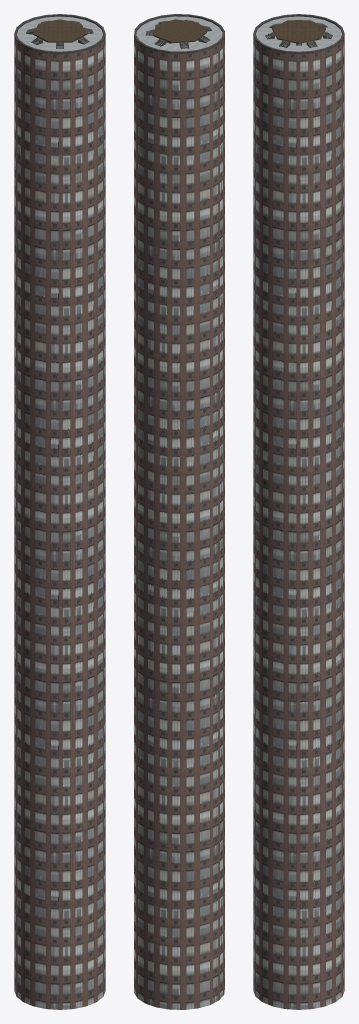
File: Building 3.fbx
3 renders of one model, left to right at view 1: azimuth 90°, elevation 25°; view 2: azimuth 150°, elevation 25°; view 3: azimuth 270°, elevation 25°, orthographic.
Parts seen in each view (by area): view 1: Building_3; view 2: Building_3; view 3: Building_3.
Part boxes in pixels (left/top/right/bottom): Building_3: left=14, top=14, right=105, bottom=1009; Building_3: left=134, top=14, right=224, bottom=1009; Building_3: left=253, top=14, right=344, bottom=1009.
Bounding box in the file's own units: 15.49 × 179 × 15.49.
7 materials, 6 textured.
